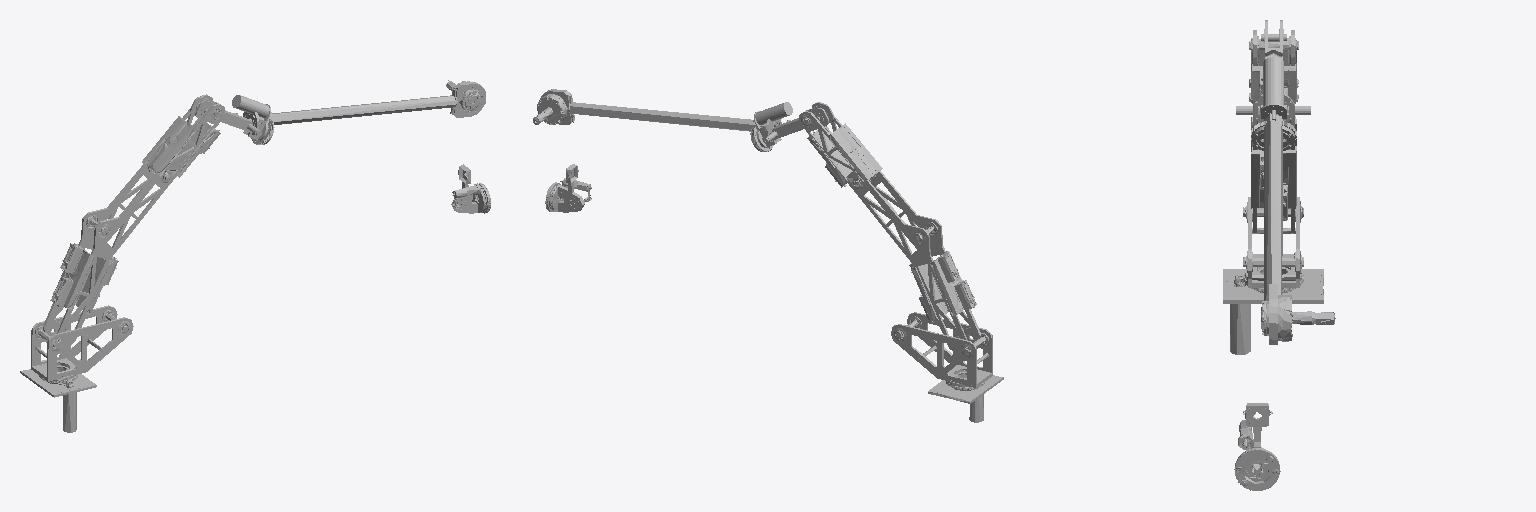
The robot description file, URDF, robot "arm_urdf3":
<?xml version="1.0" encoding="utf-8"?>
<!-- This URDF was automatically created by SolidWorks to URDF Exporter! Originally created by [author] ([email redacted]) 
     Commit Version: 1.6.0-4-g7f85cfe  Build Version: 1.6.7995.38578
     For more information, please see http://wiki.ros.org/sw_urdf_exporter -->
<robot
  name="arm_urdf3">
  <link
    name="Link_1">
    <inertial>
      <origin
        xyz="0.0062234 -0.0091682 -0.053285"
        rpy="0 0 0" />
      <mass
        value="3.331" />
      <inertia
        ixx="0.010182"
        ixy="-1.9873E-07"
        ixz="-8.6627E-05"
        iyy="0.0035887"
        iyz="-2.3959E-06"
        izz="0.0094953" />
    </inertial>
    <visual>
      <origin
        xyz="0 0 0"
        rpy="0 0 0" />
      <geometry>
        <mesh
          filename="package://arm_urdf3/meshes/visual/Link_1.STL" />
      </geometry>
      <material
        name="">
        <color
          rgba="0.75294 0.75294 0.75294 1" />
      </material>
    </visual>
    <collision>
      <origin
        xyz="0 0 0"
        rpy="0 0 0" />
      <geometry>
        <mesh
          filename="package://arm_urdf3/meshes/visual/Link_1.STL" />
      </geometry>
    </collision>
  </link>
  <link
    name="Link_2">
    <inertial>
      <origin
        xyz="0.060972 -1.3672E-05 0.064758"
        rpy="0 0 0" />
      <mass
        value="0.51625" />
      <inertia
        ixx="0.00061348"
        ixy="5.84E-19"
        ixz="-0.00027551"
        iyy="0.0023924"
        iyz="5.7914E-20"
        izz="0.0021849" />
    </inertial>
    <visual>
      <origin
        xyz="0 0 0"
        rpy="0 0 0" />
      <geometry>
        <mesh
          filename="package://arm_urdf3/meshes/visual/Link_2.STL" />
      </geometry>
      <material
        name="">
        <color
          rgba="0.75294 0.75294 0.75294 1" />
      </material>
    </visual>
    <collision>
      <origin
        xyz="0 0 0"
        rpy="0 0 0" />
      <geometry>
        <mesh
          filename="package://arm_urdf3/meshes/visual/Link_2.STL" />
      </geometry>
    </collision>
  </link>
  <joint
    name="Joint_1"
    type="continuous">
    <origin
      xyz="0 0 0.0207625000000001"
      rpy="0 0 0" />
    <parent
      link="Link_1" />
    <child
      link="Link_2" />
    <axis
      xyz="0 0 1" />
  </joint>
  <link
    name="Link_3">
    <inertial>
      <origin
        xyz="0.24805 -2.9219E-06 0.26596"
        rpy="0 0 0" />
      <mass
        value="1.9352" />
      <inertia
        ixx="0.038214"
        ixy="-9.3768E-16"
        ixz="-0.045119"
        iyy="0.099274"
        iyz="-7.467E-16"
        izz="0.061195" />
    </inertial>
    <visual>
      <origin
        xyz="0 0 0"
        rpy="0 0 0" />
      <geometry>
        <mesh
          filename="package://arm_urdf3/meshes/visual/Link_3.STL" />
      </geometry>
      <material
        name="">
        <color
          rgba="0.75294 0.75294 0.75294 1" />
      </material>
    </visual>
    <collision>
      <origin
        xyz="0 0 0"
        rpy="0 0 0" />
      <geometry>
        <mesh
          filename="package://arm_urdf3/meshes/visual/Link_3.STL" />
      </geometry>
    </collision>
  </link>
  <joint
    name="Joint_2"
    type="continuous">
    <origin
      xyz="0 0 0.1"
      rpy="0 0 0" />
    <parent
      link="Link_2" />
    <child
      link="Link_3" />
    <axis
      xyz="0 -1 0" />
  </joint>
  <link
    name="Link_4">
    <inertial>
      <origin
        xyz="-0.019735 -0.00015211 0.017938"
        rpy="0 0 0" />
      <mass
        value="0.90456" />
      <inertia
        ixx="0.00076075"
        ixy="-9.2563E-07"
        ixz="0.00067479"
        iyy="0.0019193"
        iyz="5.3407E-07"
        izz="0.001539" />
    </inertial>
    <visual>
      <origin
        xyz="0 0 0"
        rpy="0 0 0" />
      <geometry>
        <mesh
          filename="package://arm_urdf3/meshes/visual/Link_4.STL" />
      </geometry>
      <material
        name="">
        <color
          rgba="0.75294 0.75294 0.75294 1" />
      </material>
    </visual>
    <collision>
      <origin
        xyz="0 0 0"
        rpy="0 0 0" />
      <geometry>
        <mesh
          filename="package://arm_urdf3/meshes/visual/Link_4.STL" />
      </geometry>
    </collision>
  </link>
  <joint
    name="Joint_3"
    type="continuous">
    <origin
      xyz="0.558012701892218 0 0.466506350946108"
      rpy="0 0 0" />
    <parent
      link="Link_3" />
    <child
      link="Link_4" />
    <axis
      xyz="0 -1 0" />
  </joint>
  <link
    name="Link_5">
    <inertial>
      <origin
        xyz="0.54652 0.0045965 -0.31553"
        rpy="0 0 0" />
      <mass
        value="1.42" />
      <inertia
        ixx="0.0027553"
        ixy="6.9116E-08"
        ixz="0.0039305"
        iyy="0.0098338"
        iyz="-1.1945E-08"
        izz="0.0072934" />
    </inertial>
    <visual>
      <origin
        xyz="0 0 0"
        rpy="0 0 0" />
      <geometry>
        <mesh
          filename="package://arm_urdf3/meshes/visual/Link_5.STL" />
      </geometry>
      <material
        name="">
        <color
          rgba="0.75294 0.75294 0.75294 1" />
      </material>
    </visual>
    <collision>
      <origin
        xyz="0 0 0"
        rpy="0 0 0" />
      <geometry>
        <mesh
          filename="package://arm_urdf3/meshes/visual/Link_5.STL" />
      </geometry>
    </collision>
  </link>
  <joint
    name="Joint_4"
    type="continuous">
    <origin
      xyz="-0.0209336725054375 -0.000155363339502348 0.0120860614561421"
      rpy="0 0 0" />
    <parent
      link="Link_4" />
    <child
      link="Link_5" />
    <axis
      xyz="-0.866025403784437 0 0.500000000000002" />
  </joint>
  <link
    name="Link_6">
    <inertial>
      <origin
        xyz="0.032376 -0.032402 0.0074594"
        rpy="0 0 0" />
      <mass
        value="0.4426" />
      <inertia
        ixx="0.00027024"
        ixy="1.7939E-08"
        ixz="6.3524E-08"
        iyy="0.0001854"
        iyz="1.167E-06"
        izz="0.00015749" />
    </inertial>
    <visual>
      <origin
        xyz="0 0 0"
        rpy="0 0 0" />
      <geometry>
        <mesh
          filename="package://arm_urdf3/meshes/visual/Link_6.STL" />
      </geometry>
      <material
        name="">
        <color
          rgba="0.75294 0.75294 0.75294 1" />
      </material>
    </visual>
    <collision>
      <origin
        xyz="0 0 0"
        rpy="0 0 0" />
      <geometry>
        <mesh
          filename="package://arm_urdf3/meshes/visual/Link_6.STL" />
      </geometry>
    </collision>
  </link>
  <joint
    name="Joint_5"
    type="continuous">
    <origin
      xyz="0.63745932252309 0 -0.368037311456142"
      rpy="0 0 0" />
    <parent
      link="Link_5" />
    <child
      link="Link_6" />
    <axis
      xyz="0 -1 0" />
  </joint>
  <link
    name="Link_7">
    <inertial>
      <origin
        xyz="0.087198 -1.9706E-15 8.8818E-16"
        rpy="0 0 0" />
      <mass
        value="1.4764" />
      <inertia
        ixx="0.0058401"
        ixy="-1.3237E-19"
        ixz="1.929E-19"
        iyy="0.0043142"
        iyz="-4.4544E-21"
        izz="0.0097785" />
    </inertial>
    <visual>
      <origin
        xyz="0 0 0"
        rpy="0 0 0" />
      <geometry>
        <mesh
          filename="package://arm_urdf3/meshes/visual/Link_7.STL" />
      </geometry>
      <material
        name="">
        <color
          rgba="0.79216 0.81961 0.93333 1" />
      </material>
    </visual>
    <collision>
      <origin
        xyz="0 0 0"
        rpy="0 0 0" />
      <geometry>
        <mesh
          filename="package://arm_urdf3/meshes/visual/Link_7.STL" />
      </geometry>
    </collision>
  </link>
  <joint
    name="Joint_6"
    type="continuous">
    <origin
      xyz="0.0621500000000025 -0.0285875000000056 0"
      rpy="0 0 0" />
    <parent
      link="Link_6" />
    <child
      link="Link_7" />
    <axis
      xyz="-1 0 0" />
  </joint>
</robot>

--- Render facts (derived) ---
The picture shows the robot from 3 angles, left to right: view 1: azimuth 30°, elevation 25°; view 2: azimuth 150°, elevation 25°; view 3: azimuth 270°, elevation 25°; orthographic projection.
Robot: arm_urdf3 — 7 links, 6 joints (6 continuous); root link Link_1; default pose: every joint at zero.
Links seen in each view (by area): view 1: Link_3, Link_2, Link_5, Link_4, Link_1, Link_6; view 2: Link_3, Link_2, Link_5, Link_4, Link_1, Link_6; view 3: Link_5, Link_3, Link_1, Link_4, Link_6, Link_2.
Link boxes in pixels (x1,y1,x2,y2): Link_3: [43, 94, 224, 346]; Link_2: [31, 305, 133, 381]; Link_5: [243, 80, 485, 134]; Link_4: [190, 95, 274, 144]; Link_1: [20, 366, 96, 432]; Link_6: [451, 164, 490, 213]; Link_3: [799, 102, 980, 352]; Link_2: [891, 312, 992, 387]; Link_5: [533, 89, 781, 141]; Link_4: [750, 102, 833, 151]; Link_1: [928, 372, 1003, 422]; Link_6: [545, 164, 591, 212]; Link_5: [1253, 93, 1335, 344]; Link_3: [1249, 30, 1298, 233]; Link_1: [1223, 267, 1323, 354]; Link_4: [1236, 20, 1310, 150]; Link_6: [1234, 403, 1280, 490]; Link_2: [1243, 197, 1303, 287].
Bounding box of the posed robot: 1.33 × 0.192 × 0.8152 m (x, y, z).
6 mesh visuals loaded from 7 distinct referenced files (6 binary STL); not drawn: 1 (reference not matched to a file when rendering).